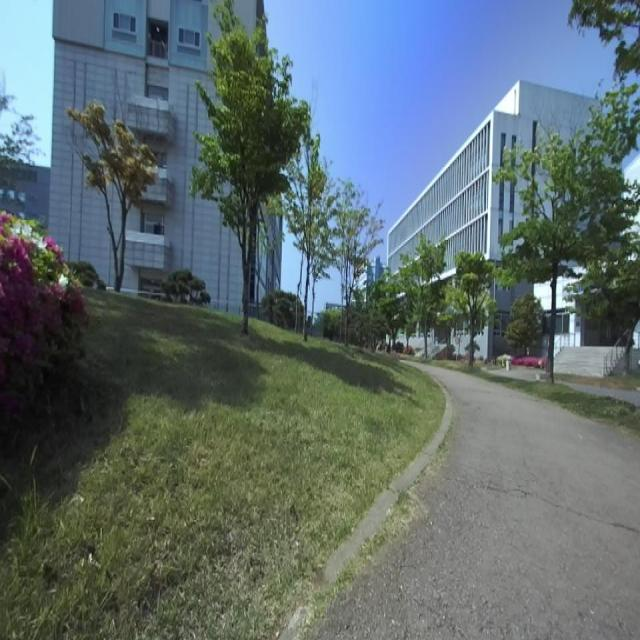sidewalk: (314, 364, 640, 639)
